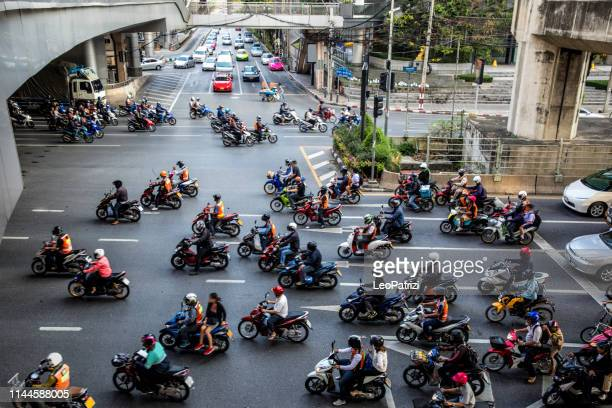bike: (101, 333, 201, 406), (295, 336, 391, 408), (403, 333, 487, 396), (240, 282, 317, 348), (160, 291, 234, 358), (539, 339, 612, 403), (488, 313, 566, 372), (397, 287, 473, 345), (483, 271, 561, 323), (65, 248, 137, 299), (338, 278, 407, 326), (278, 241, 341, 289), (170, 222, 229, 272), (26, 226, 88, 271), (479, 204, 542, 246), (333, 216, 397, 256), (88, 181, 144, 224), (252, 224, 304, 270), (189, 194, 242, 237), (294, 188, 342, 227), (375, 200, 419, 242), (238, 213, 276, 261), (388, 175, 435, 210), (437, 197, 479, 236), (143, 171, 182, 209), (326, 167, 363, 203), (270, 178, 310, 209), (221, 116, 256, 146), (126, 106, 158, 135), (63, 116, 94, 145), (253, 117, 281, 143), (299, 108, 330, 131), (271, 101, 297, 126), (95, 103, 121, 127), (151, 103, 178, 126), (10, 106, 34, 130), (186, 96, 211, 119)
car: (566, 226, 612, 284), (562, 166, 612, 217), (210, 74, 234, 91), (171, 55, 196, 71), (238, 66, 263, 81), (264, 56, 287, 72), (141, 56, 165, 70), (201, 57, 218, 73), (235, 49, 251, 62), (198, 45, 206, 62)
